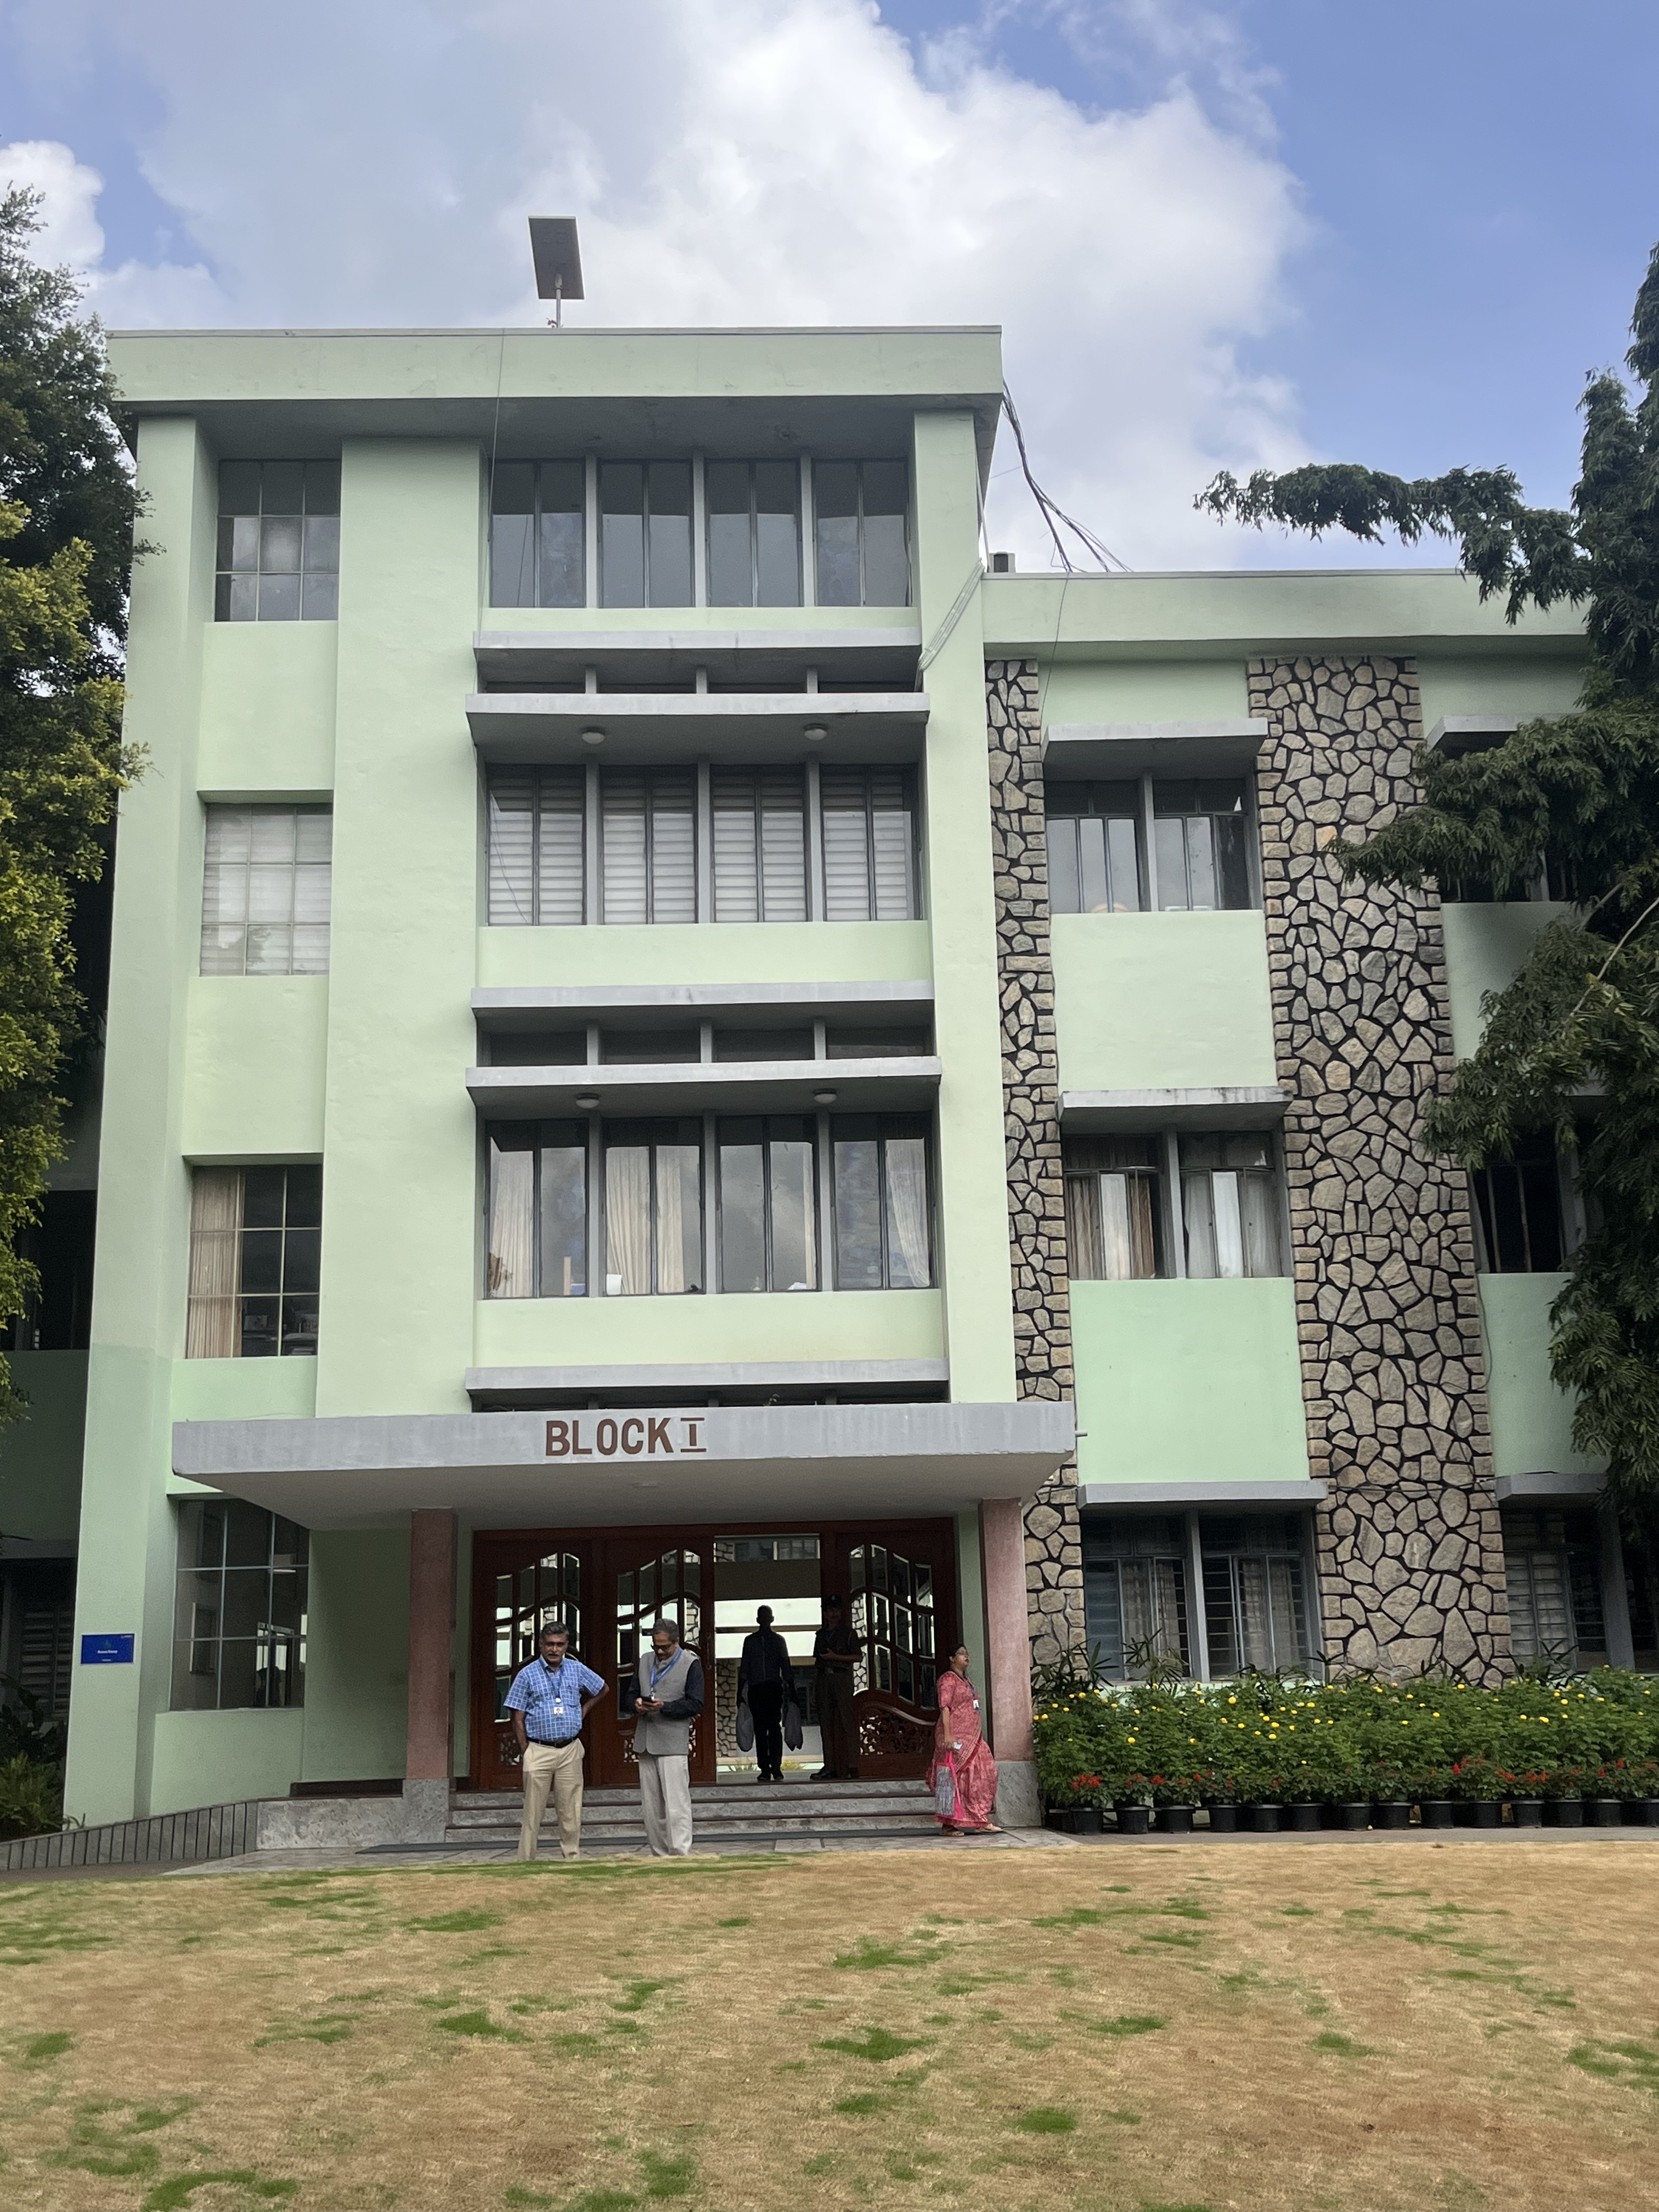Block 1: (105, 315, 1659, 1824)
